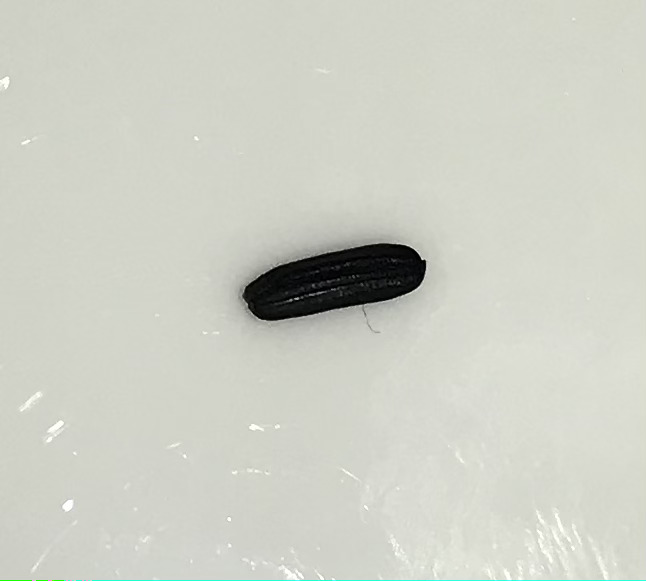Gao lut: (241, 241, 428, 321)
